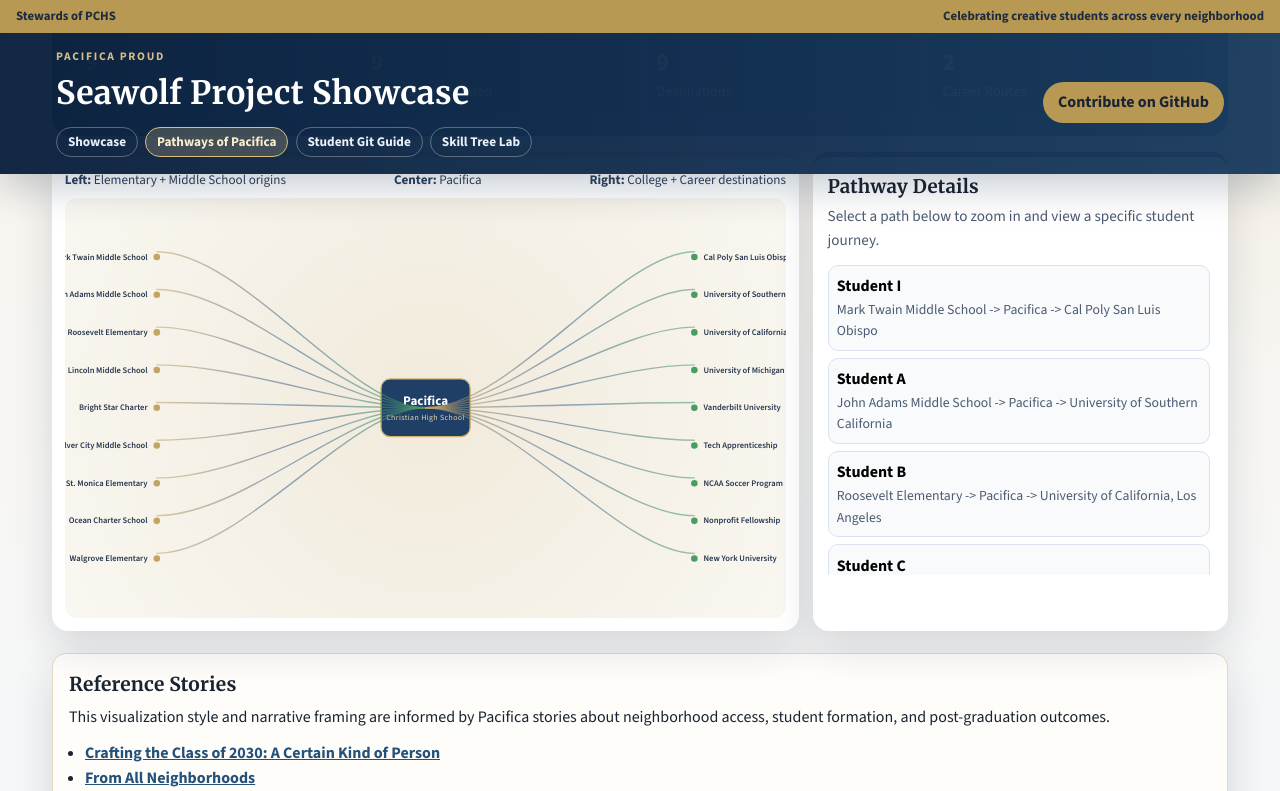
Test: PathwaysPage › renders pathways hero and supports path focus
The image size is (1280, 791).
(page scrolled)
expect the link "Pathways of Pacifica" is shown: met, box [145,127,288,157]
Click the button with aria-label "Focus pathway for Student A": click(1019, 401) [828,358,1210,444]
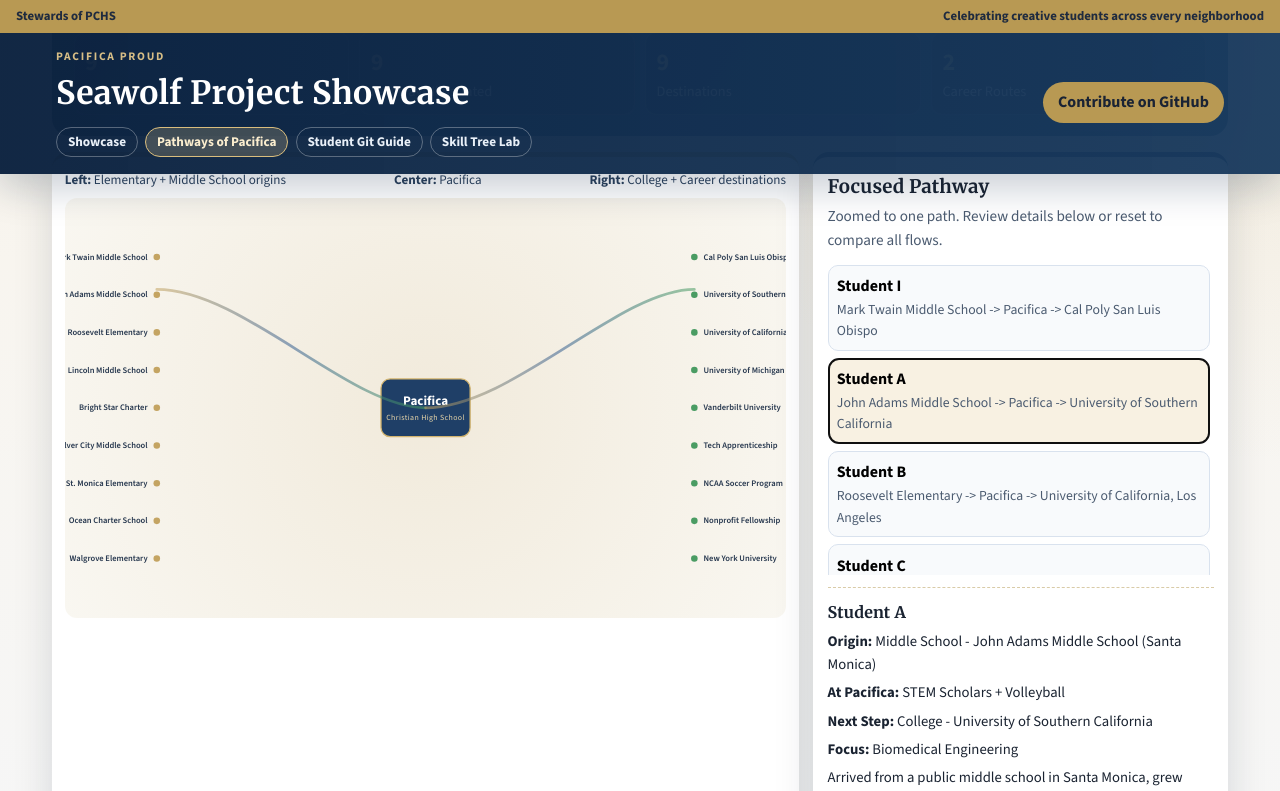
expect the text "Student A" is shown: met, box [837,368,906,389]
expect the heading "Focused Pathway" is shown: met, box [828,175,990,198]
